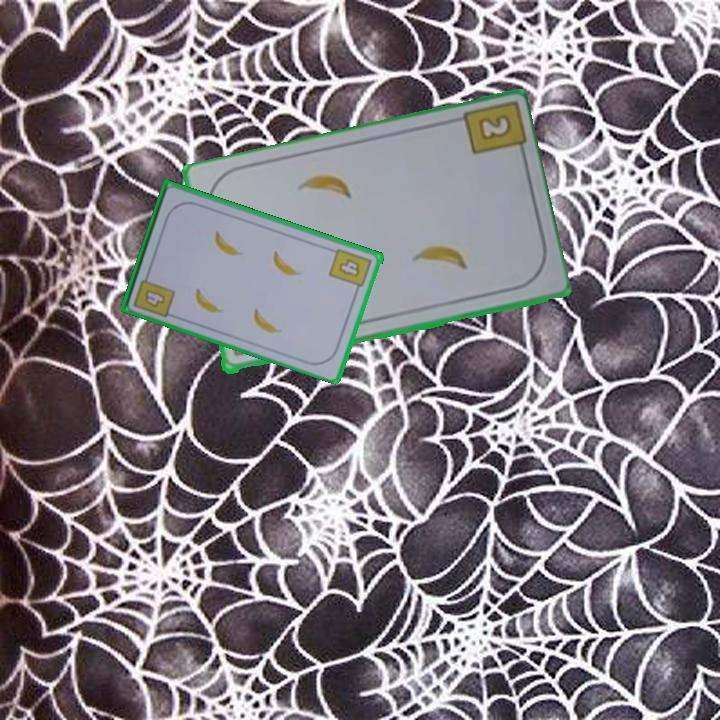2b: (478, 114, 511, 141)
4b: (326, 245, 375, 296), (142, 286, 169, 310)
